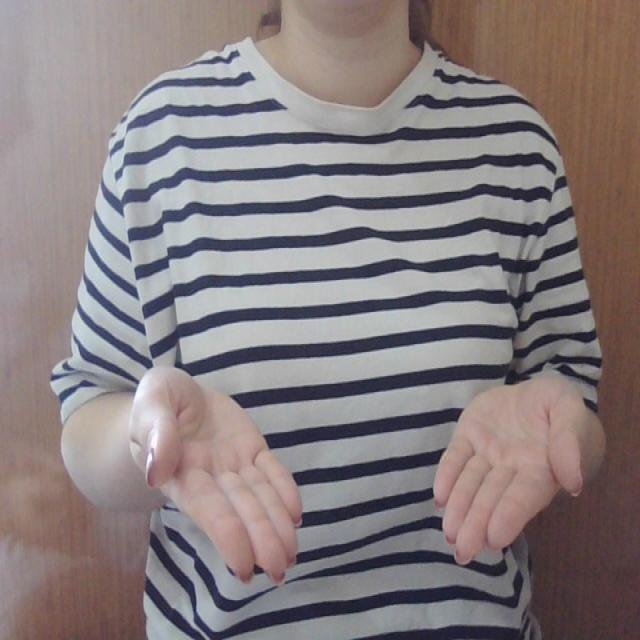Evet: (125, 349, 592, 594)
